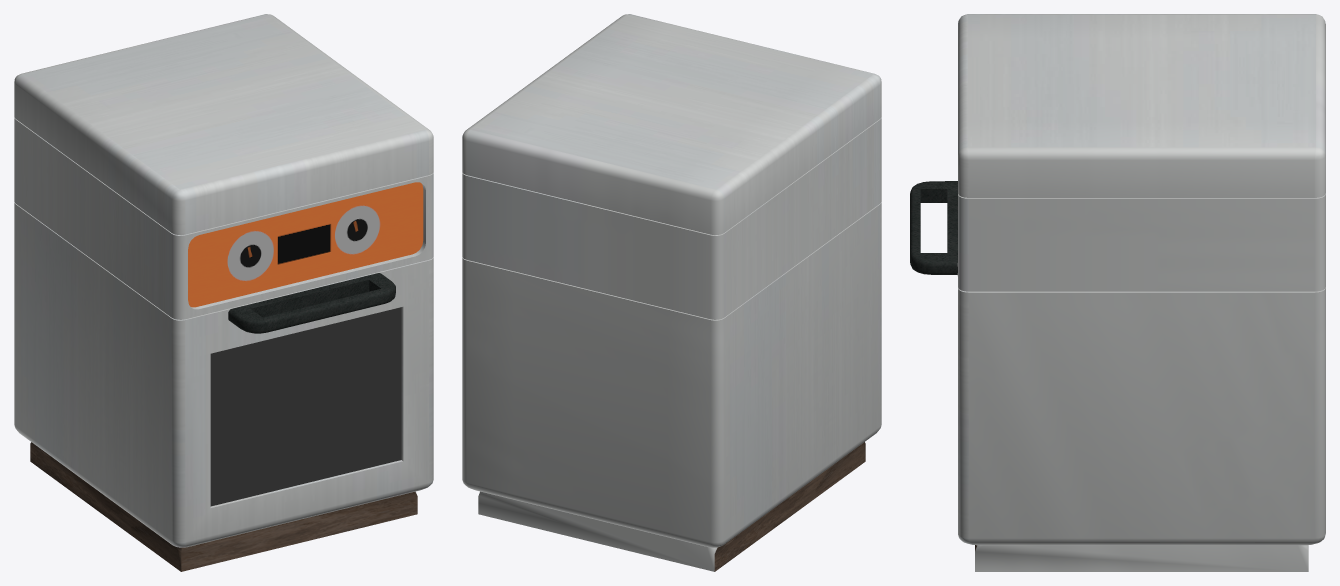
The model's file is SM_Oven_A.fbx.
The picture shows the model from 3 angles, left to right: view 1: azimuth 30°, elevation 25°; view 2: azimuth 150°, elevation 25°; view 3: azimuth 270°, elevation 25°; orthographic projection. The views are drawn at different scales.
Visible parts, largest first — view 1: SM_hoven_A; view 2: SM_hoven_A; view 3: SM_hoven_A.
Part boxes in pixels (<box>): SM_hoven_A: <box>14,14,433,571</box>; SM_hoven_A: <box>462,14,881,571</box>; SM_hoven_A: <box>910,14,1325,571</box>.
Size of the model in its own units: 56.76 by 80.27 by 70.83.
